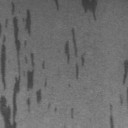red iron: (0, 0, 48, 128), (64, 27, 87, 78), (80, 0, 99, 21), (122, 59, 128, 84), (110, 104, 116, 128), (52, 0, 60, 11), (41, 60, 46, 69), (70, 108, 74, 119), (53, 106, 58, 112)
